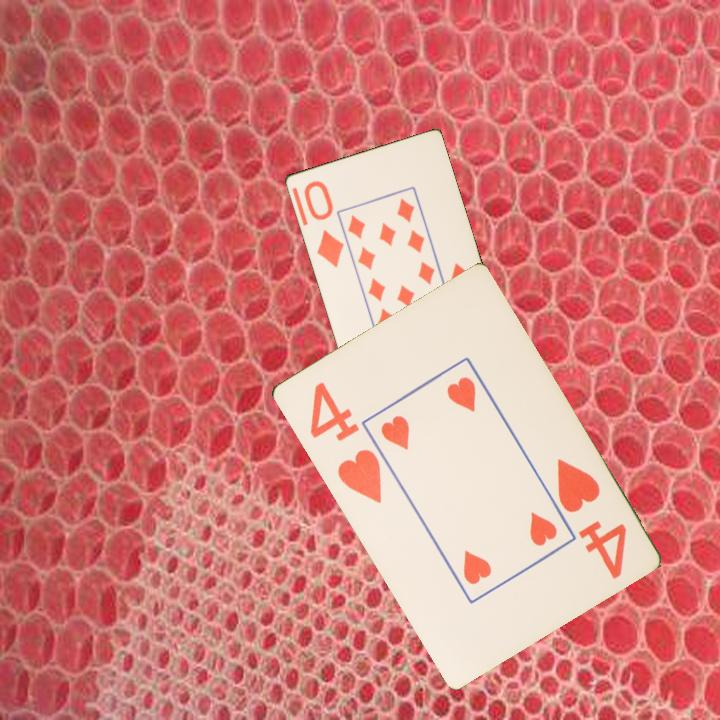10d: (300, 177, 347, 271)
4h: (305, 378, 384, 507), (552, 454, 629, 582)
